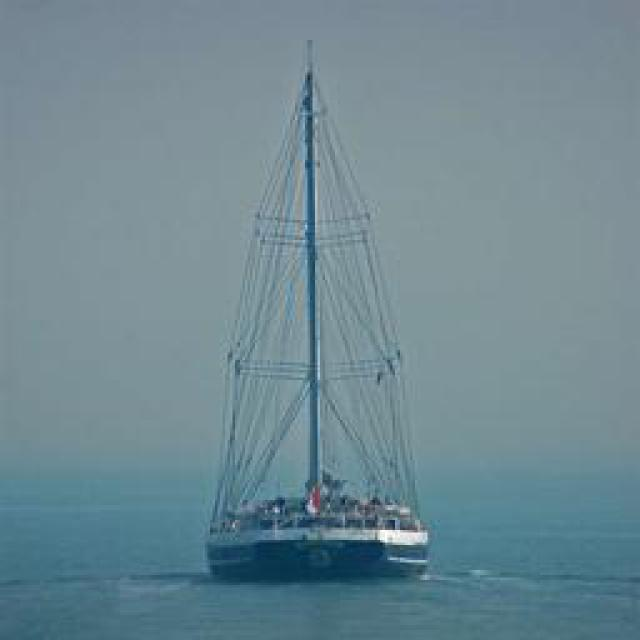Ship: (202, 26, 432, 591)
